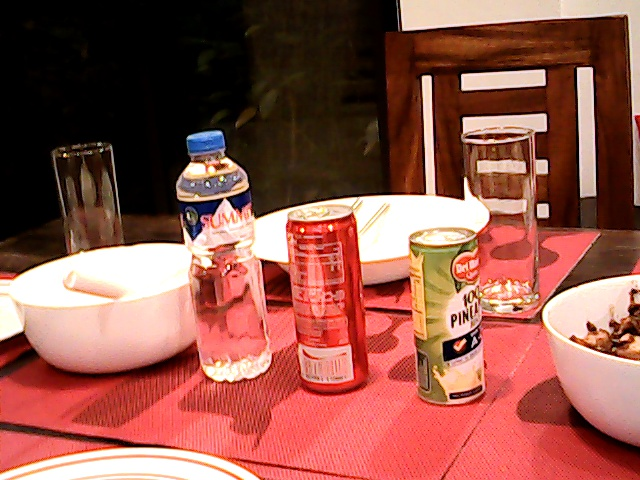Cola: (277, 204, 376, 395)
Pine Juice: (401, 217, 493, 412)
Summit Water: (178, 129, 267, 387)
